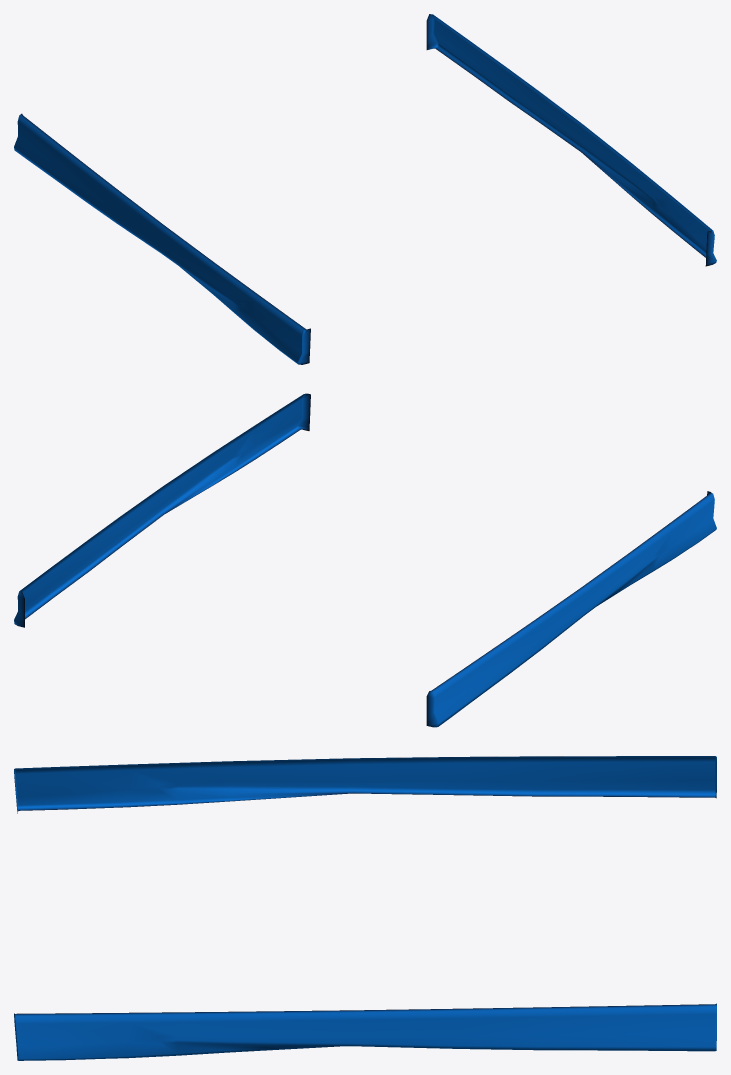
Rendered from BMW_E36_Skirt01_Duco.fbx.
3 views of the same model, one above another, from view 1: azimuth 30°, elevation 25°; view 2: azimuth 150°, elevation 25°; view 3: azimuth 270°, elevation 25° (orthographic). The views are drawn at different scales.
Parts seen in each view (by area): view 1: BMW_E36_Skirt01_Duco; view 2: BMW_E36_Skirt01_Duco; view 3: BMW_E36_Skirt01_Duco.
Boxes of the visible parts, box(x1,y1,x2,y2) form: BMW_E36_Skirt01_Duco: box(14, 14, 716, 364); BMW_E36_Skirt01_Duco: box(14, 393, 716, 727); BMW_E36_Skirt01_Duco: box(14, 756, 716, 1060).
Bounding box in the file's own units: 1.72 × 0.1733 × 1.99.
